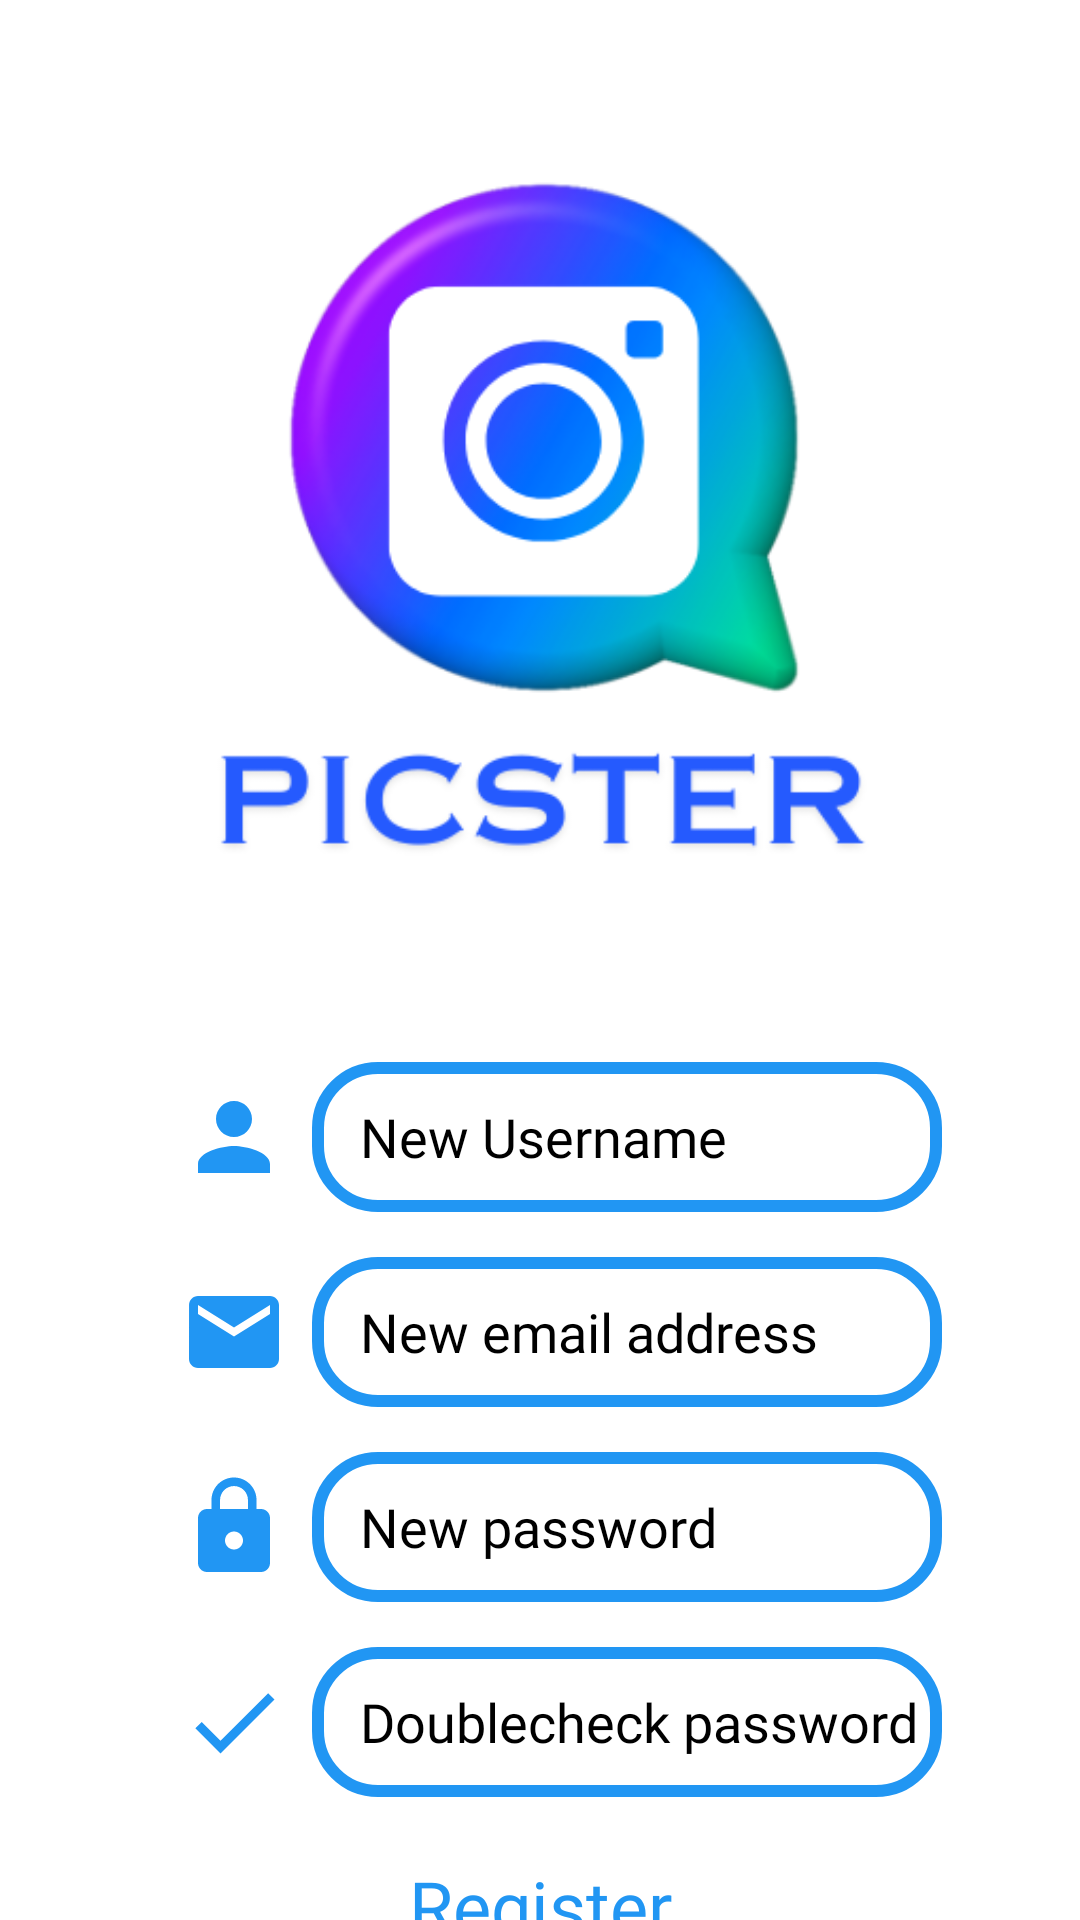

Screen size 1080w x 1920h. Icon name, then its box in pixels as (x1, y1, x2, y2):
lock: (198, 1477, 270, 1572)
